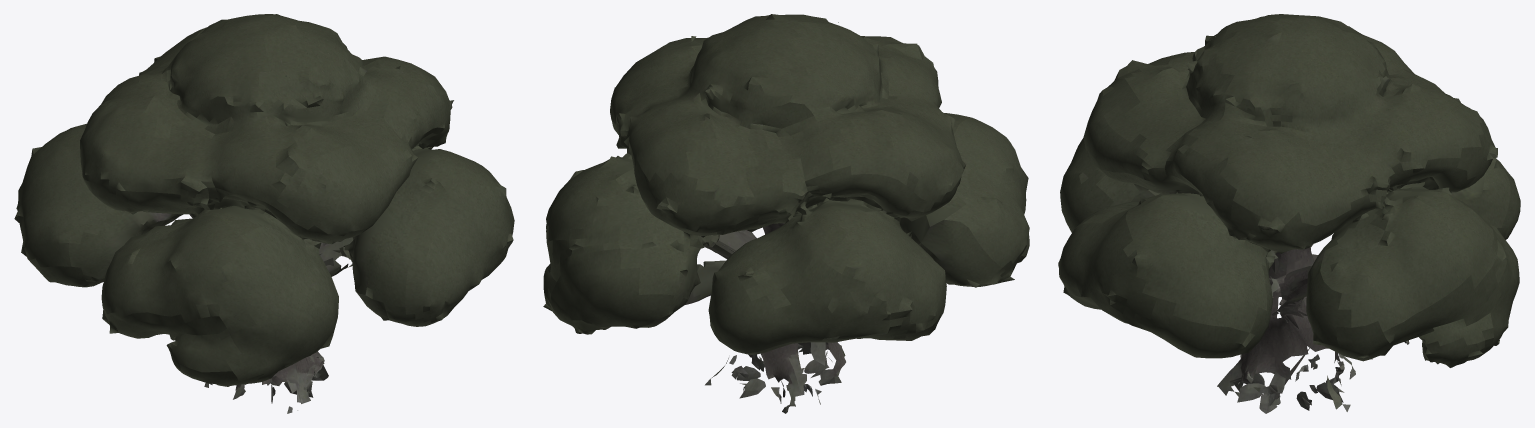
Rendered from m16-living-oak.glb.
The picture shows the model from 3 angles, left to right: view 1: azimuth 30°, elevation 25°; view 2: azimuth 150°, elevation 25°; view 3: azimuth 270°, elevation 25°; orthographic projection. The views are drawn at different scales.
Size of the model in its own units: 1.85 by 1.63 by 1.85.
Materials: 1 (1 with a texture image).
